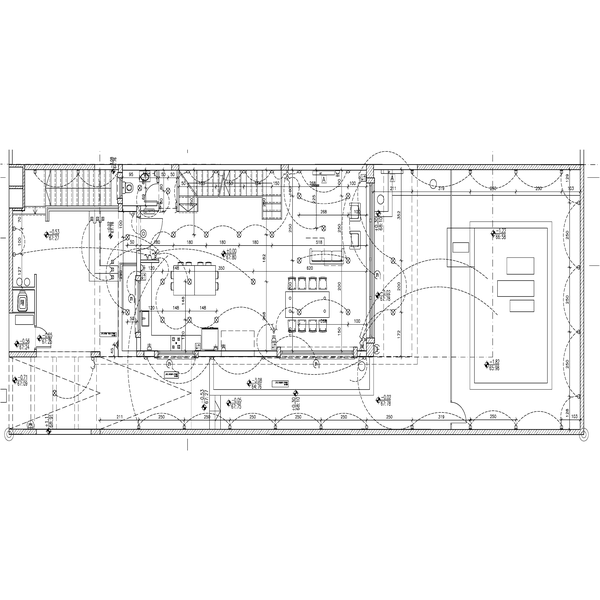room: (131, 256, 378, 362)
